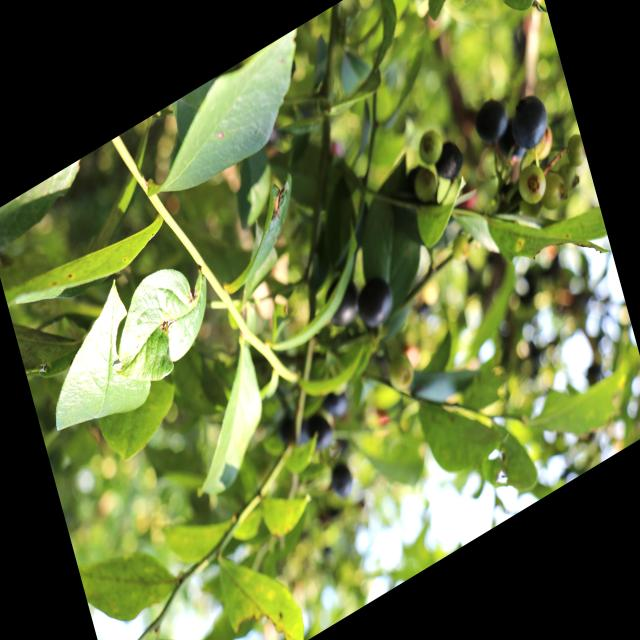blueberry: (352, 267, 399, 338), (320, 269, 367, 338), (507, 90, 552, 158), (470, 94, 514, 150), (431, 135, 468, 188), (304, 408, 334, 458), (320, 385, 351, 432), (328, 461, 356, 502)
blueberry-unripe: (514, 158, 551, 210), (539, 168, 569, 212), (386, 354, 416, 396), (416, 127, 445, 169), (414, 163, 440, 206)
